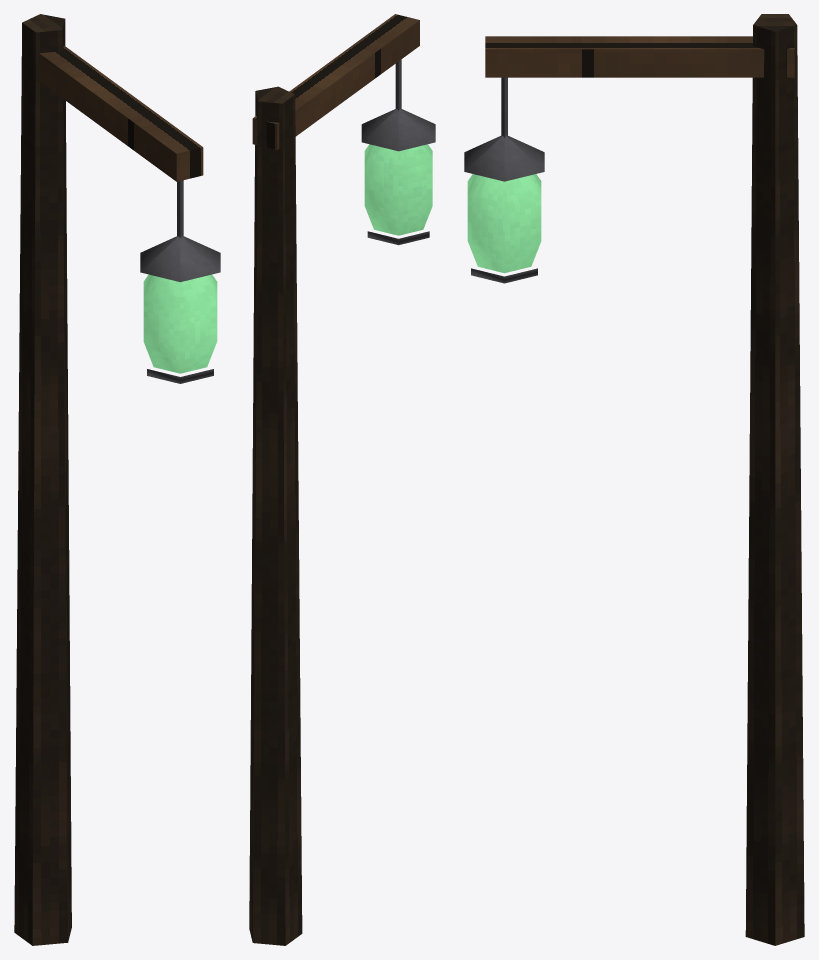
File: town_green_lantern.glb
The picture shows the model from 3 angles, left to right: view 1: azimuth 30°, elevation 25°; view 2: azimuth 150°, elevation 25°; view 3: azimuth 270°, elevation 25°; orthographic projection. The views are drawn at different scales.
Visible parts, largest first — view 1: post-col, detail; view 2: post-col, detail; view 3: post-col, detail.
Part boxes in pixels (x1,y1,x2,y2): post-col: (14, 14, 71, 945); detail: (39, 45, 220, 383); post-col: (249, 86, 302, 945); detail: (252, 14, 435, 245); post-col: (745, 14, 804, 945); detail: (464, 36, 794, 283).
Size of the model in its own units: 0.24 by 2.6 by 0.88.
4 materials, 4 textured.
